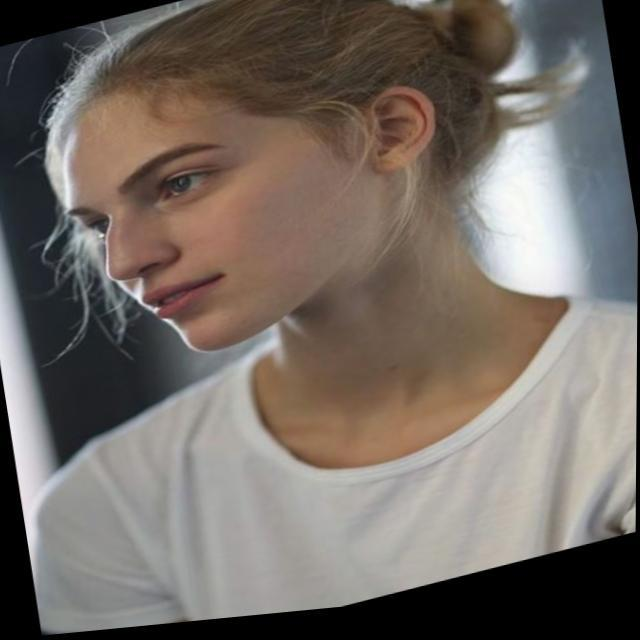Nonhelmet: (31, 1, 589, 361)
